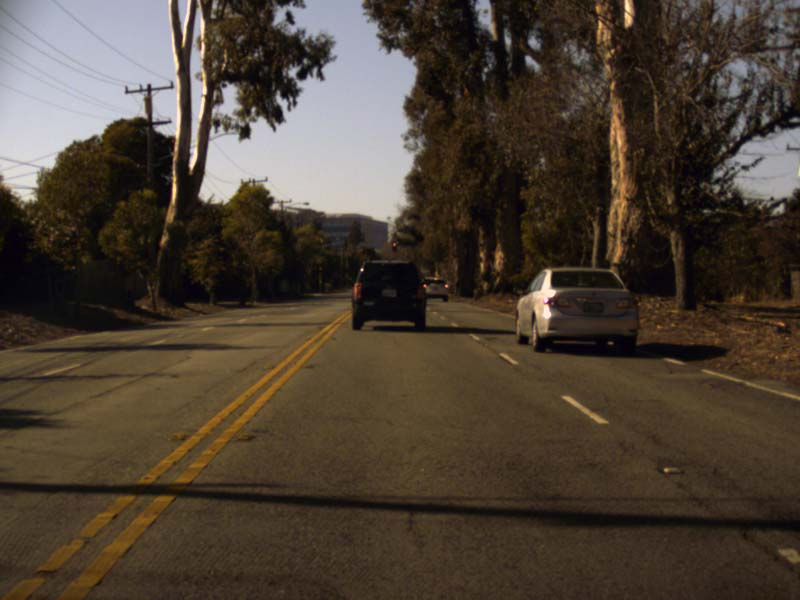Red: (392, 241, 396, 251)
